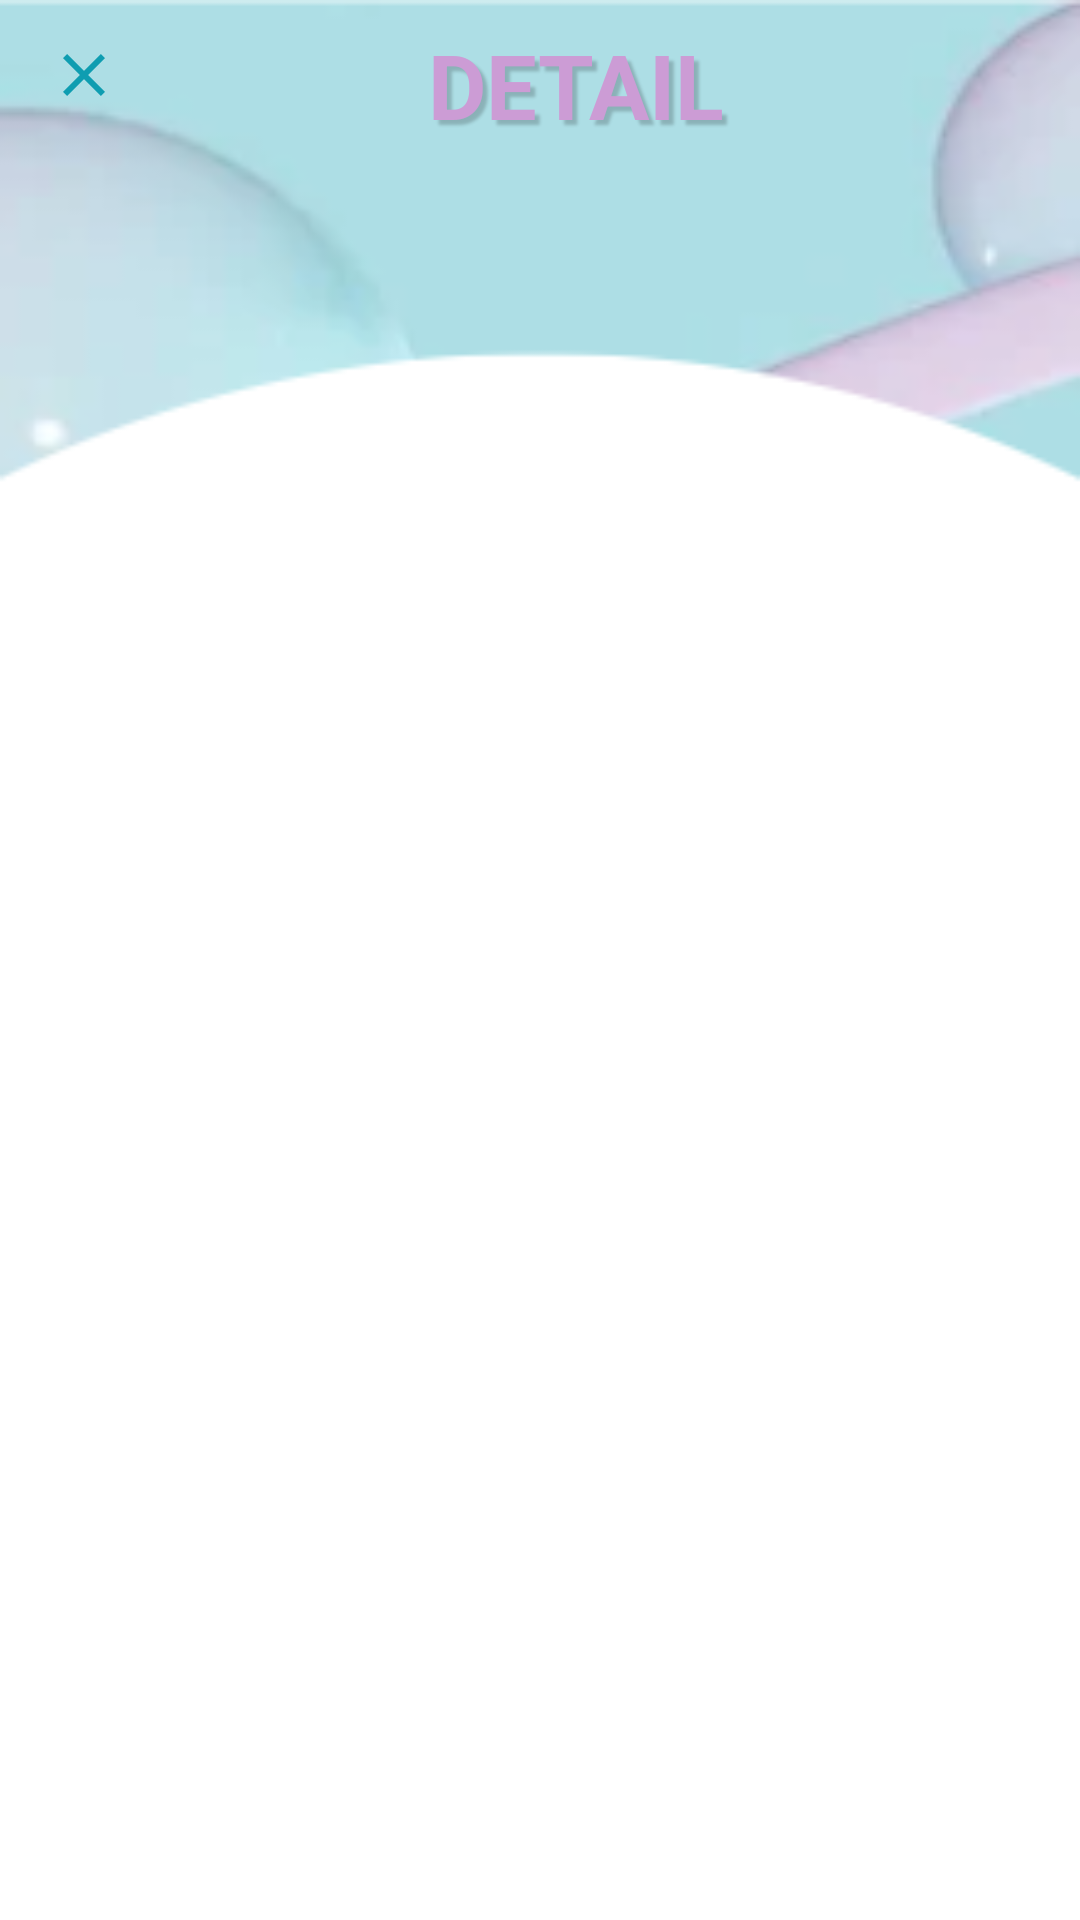

Icons on this 1080px x 1920px Android screen, each with its box as bbox=(x1, y1, x2, y2):
close: bbox=(63, 54, 105, 96)
